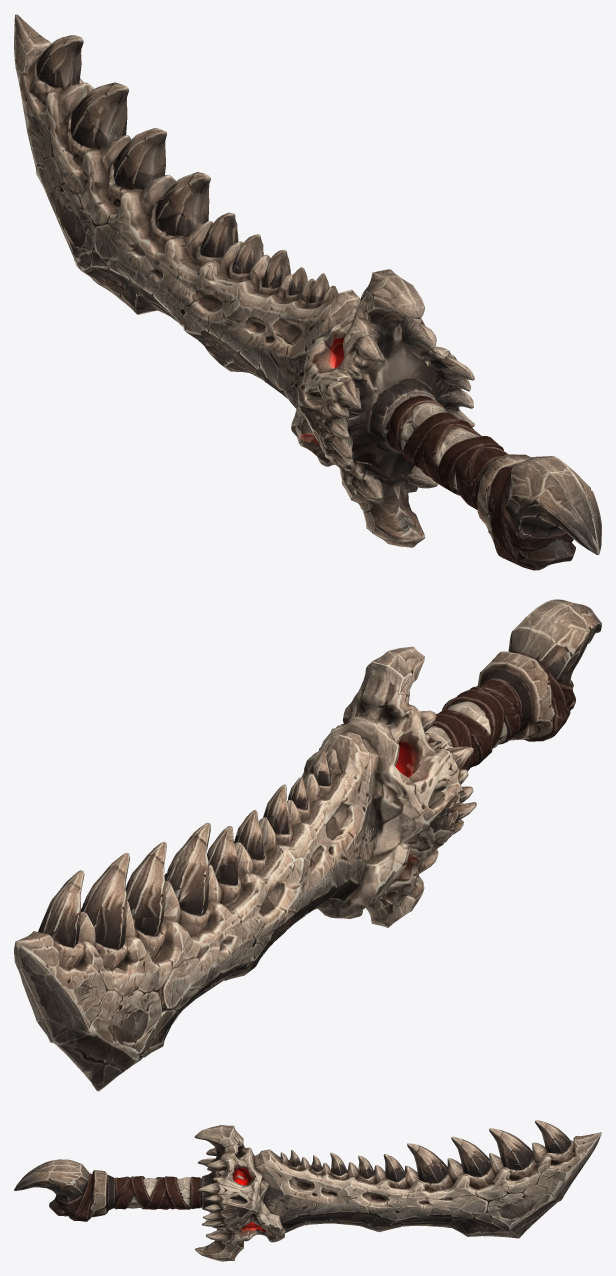
Rendered from Sword_TrexJaw.fbx.
The picture shows the model from 3 angles, top to bottom: view 1: azimuth 30°, elevation 25°; view 2: azimuth 150°, elevation 25°; view 3: azimuth 270°, elevation 25°; orthographic projection. The views are drawn at different scales.
Visible parts, largest first — view 1: Sword_TrexJaw; view 2: Sword_TrexJaw; view 3: Sword_TrexJaw.
Boxes of the visible parts, bbox=[...] form: Sword_TrexJaw: bbox=[14, 14, 601, 570]; Sword_TrexJaw: bbox=[14, 599, 601, 1091]; Sword_TrexJaw: bbox=[14, 1120, 601, 1261].
Bounding box in the file's own units: 71.97 × 136 × 520.
1 material, 1 textured.
